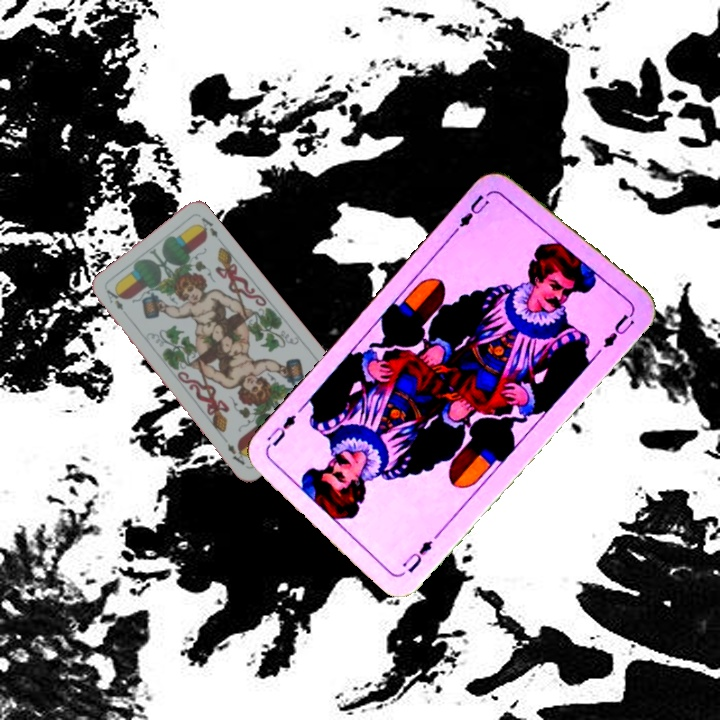EA: (102, 285, 126, 313)
EU: (451, 190, 492, 234), (397, 536, 435, 575)
